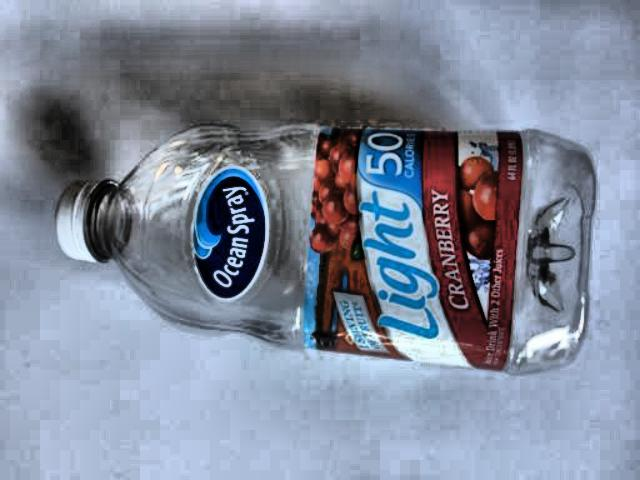Bottles: (19, 104, 633, 399)
